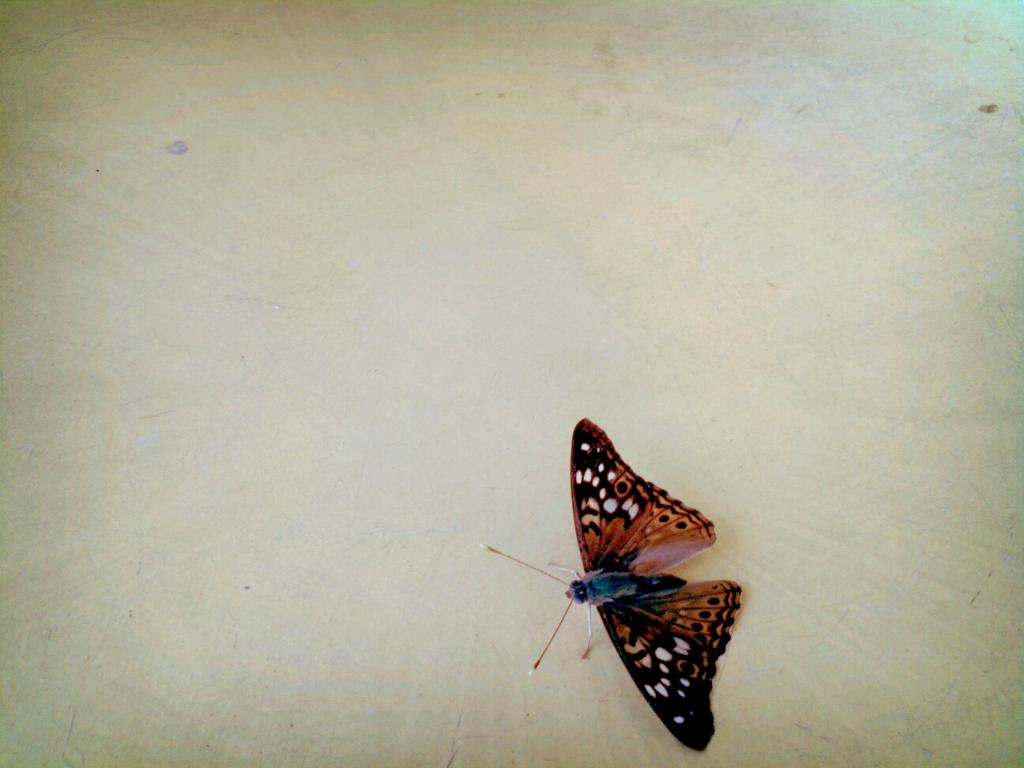Butterfly: (490, 402, 798, 768)
